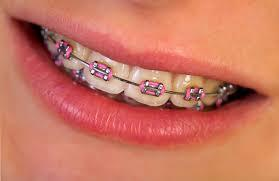Braces: (40, 26, 240, 112)
